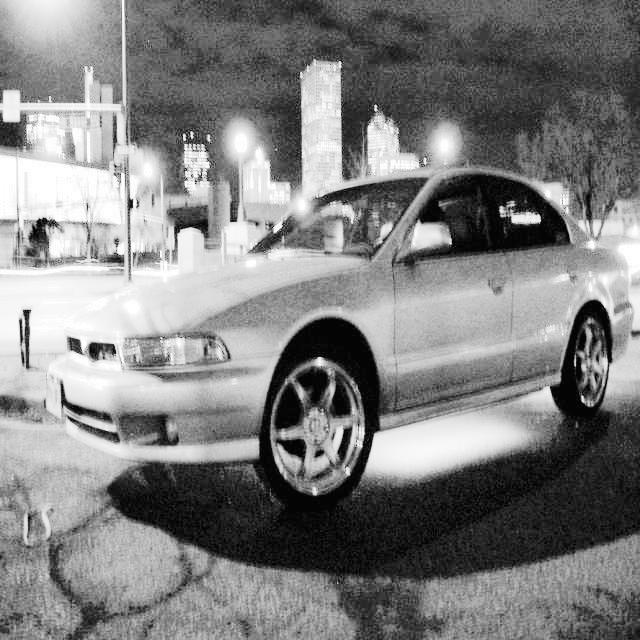Car: (42, 155, 632, 513)
